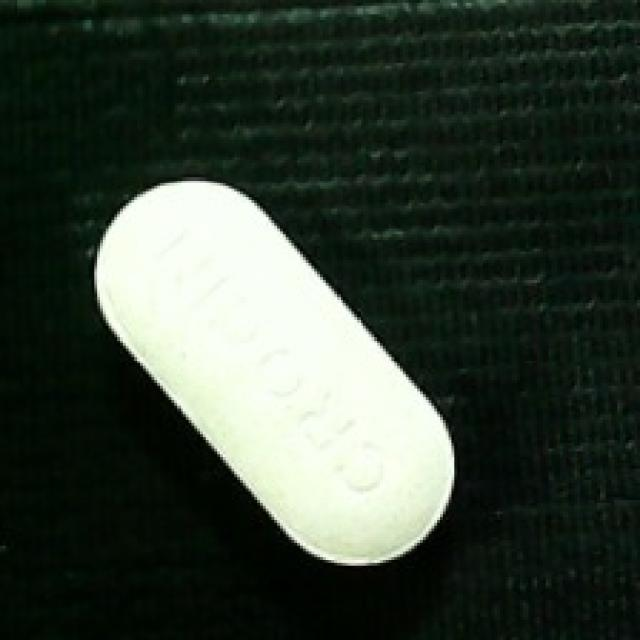no-defect: (91, 175, 458, 570)
